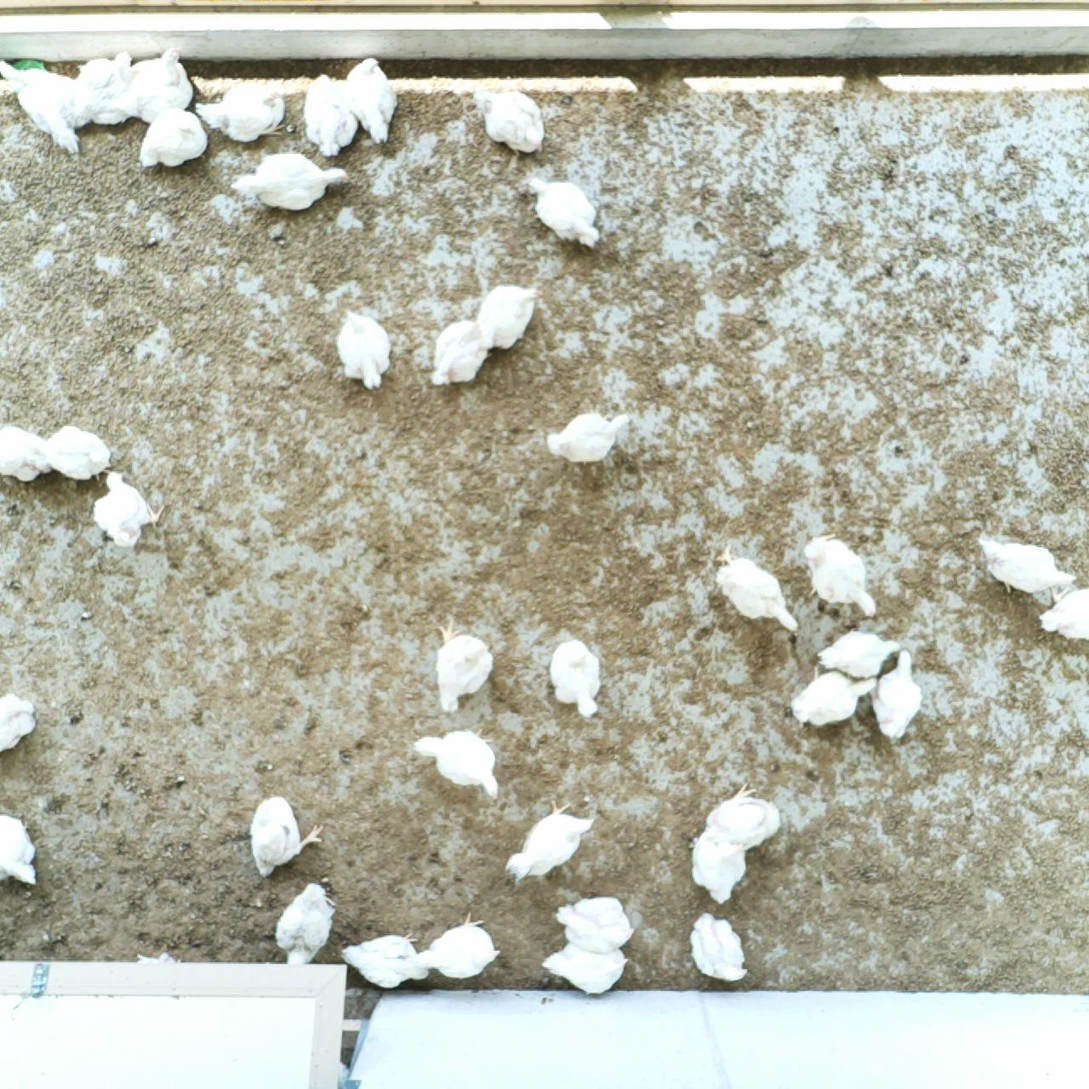chicken: (711, 542, 804, 640), (503, 793, 602, 884), (0, 54, 87, 157), (229, 148, 355, 215), (413, 724, 505, 806), (798, 530, 881, 620), (195, 75, 297, 148), (248, 790, 328, 881), (433, 612, 499, 714), (118, 44, 198, 127), (976, 535, 1078, 600), (414, 909, 506, 981), (89, 469, 168, 552), (703, 777, 785, 855), (337, 927, 433, 993), (469, 84, 549, 162), (868, 646, 931, 745), (788, 663, 881, 729), (524, 175, 605, 250), (343, 53, 404, 149), (551, 890, 637, 958), (272, 882, 338, 968), (131, 105, 212, 174), (545, 407, 636, 468), (538, 939, 633, 997), (70, 49, 138, 130), (300, 72, 362, 160), (336, 306, 396, 396), (549, 633, 608, 722), (684, 910, 753, 986), (475, 281, 546, 352), (812, 624, 905, 677), (35, 423, 115, 483), (688, 827, 748, 907), (427, 319, 492, 391), (0, 419, 54, 484), (1036, 580, 1089, 644), (0, 809, 41, 890), (0, 690, 39, 757)
